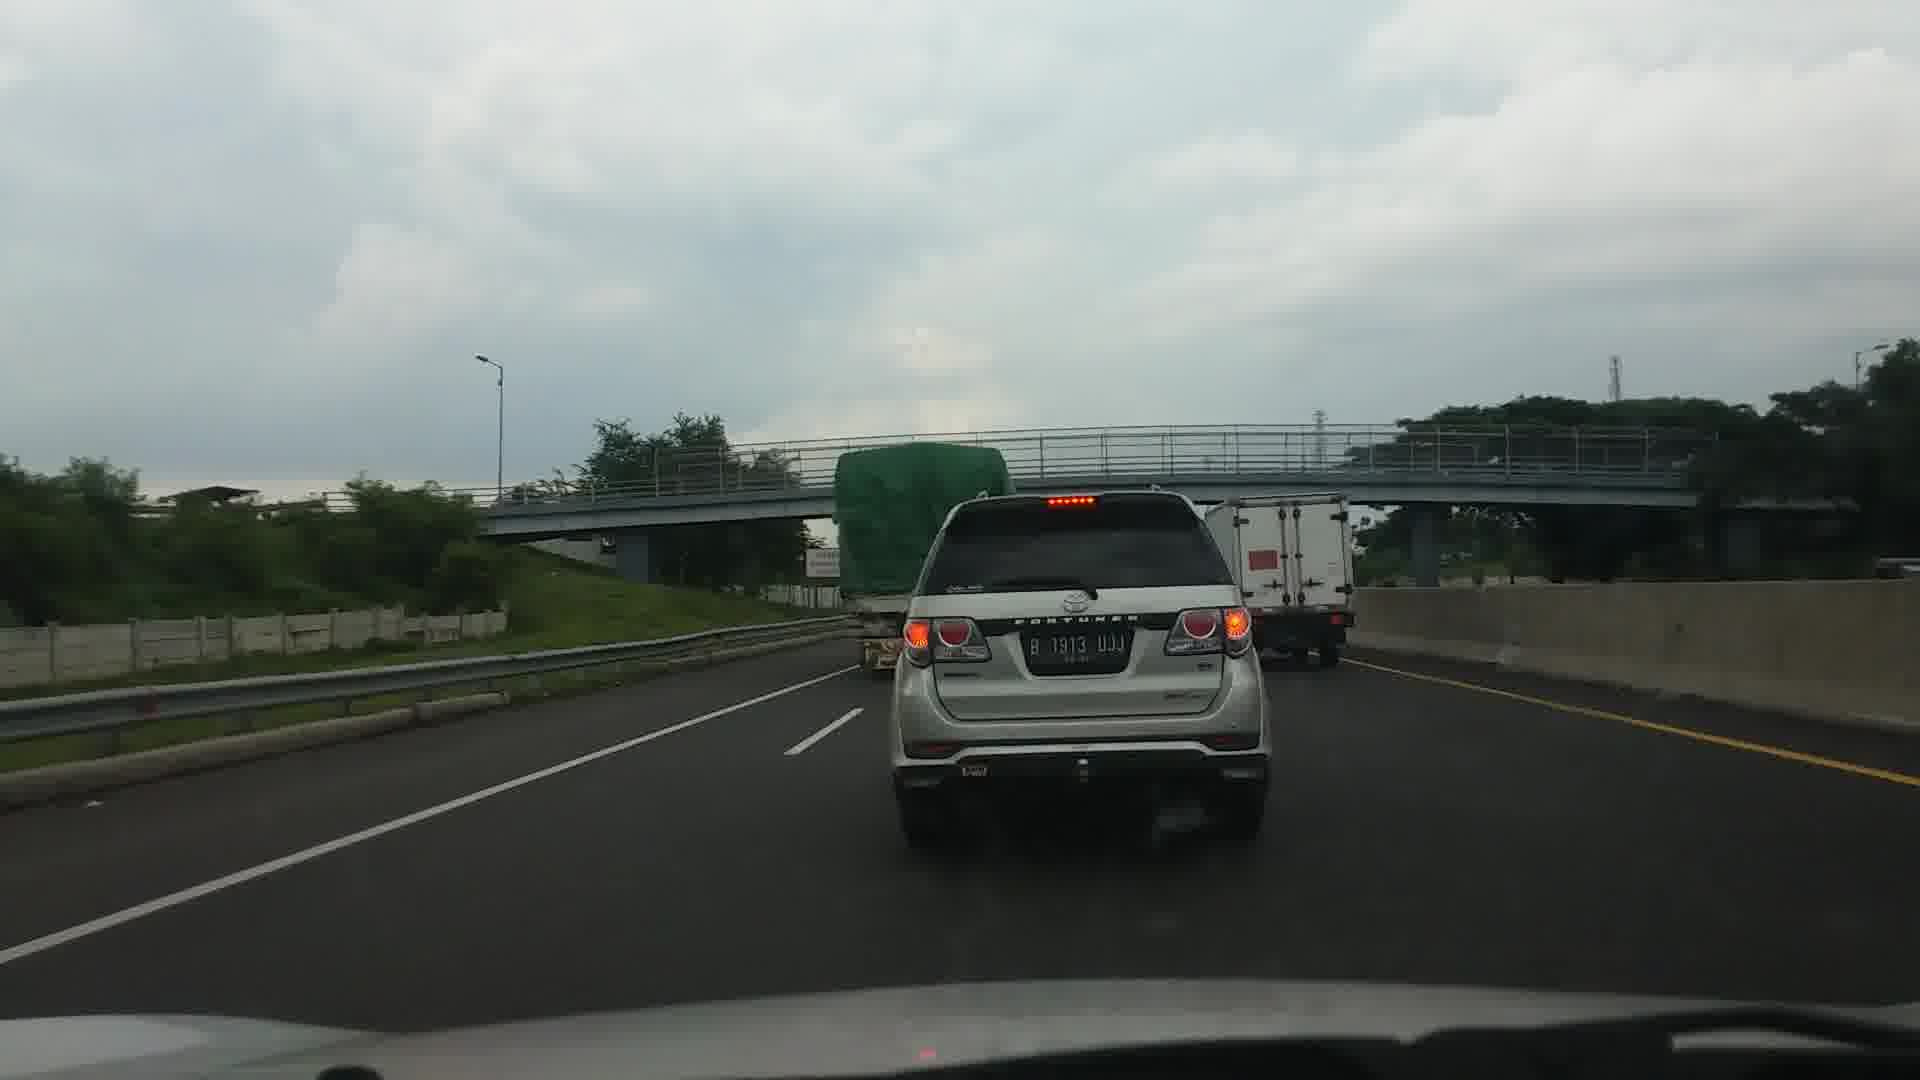plate_positive: (1027, 636, 1129, 665)
